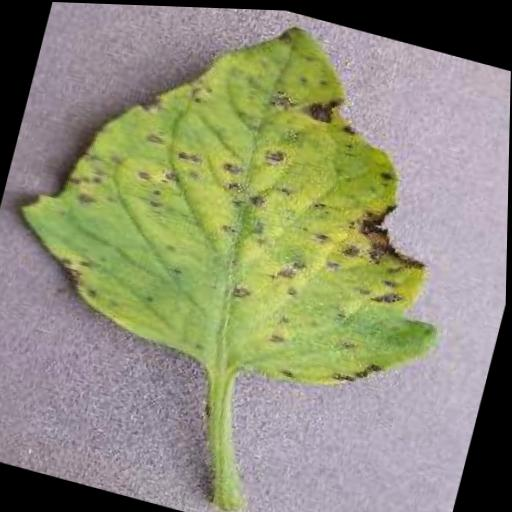Septoria: (0, 0, 503, 415)
